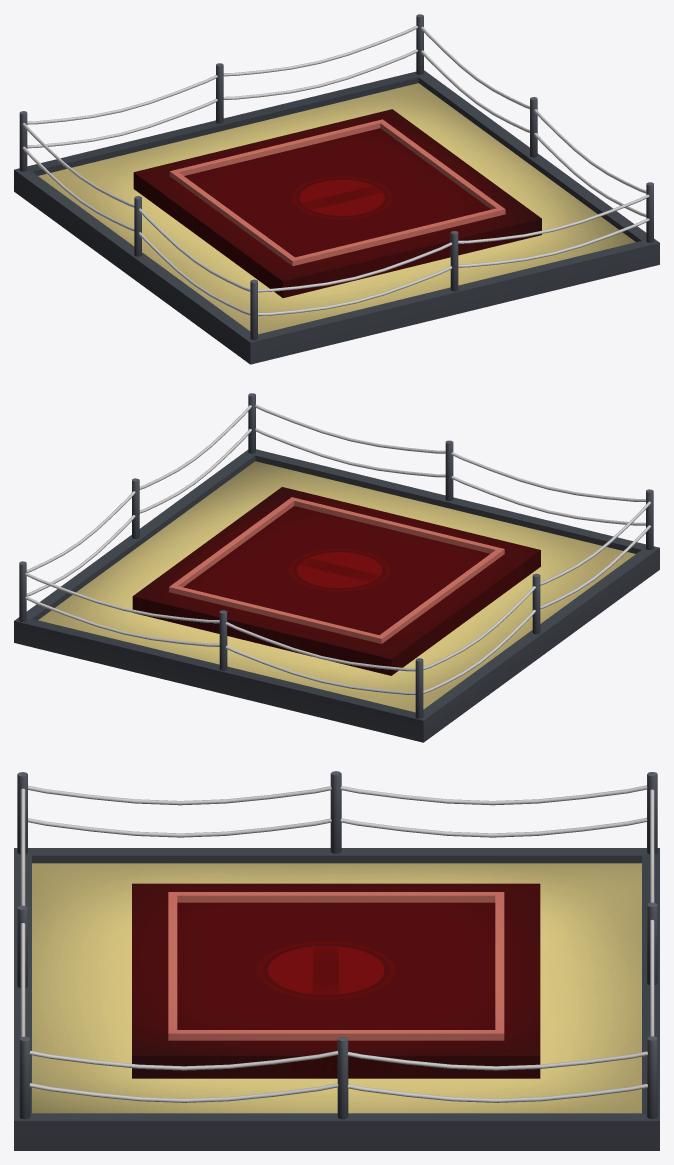
File: boxing ring.fbx
The picture shows the model from 3 angles, top to bottom: view 1: azimuth 30°, elevation 25°; view 2: azimuth 150°, elevation 25°; view 3: azimuth 270°, elevation 25°; orthographic projection. The views are drawn at different scales.
Visible parts, largest first — view 1: polySurface11672; view 2: polySurface11672; view 3: polySurface11672.
Boxes of the visible parts, x1,y1,x2,y2 form: polySurface11672: (14,14,659,364); polySurface11672: (14,393,659,742); polySurface11672: (14,771,659,1150).
Size of the model in its own units: 71.52 by 13.23 by 71.52.
